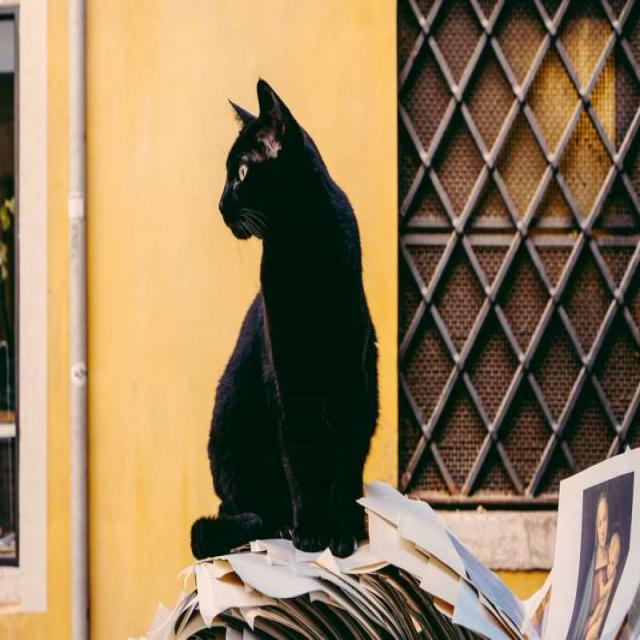black cat: (183, 68, 390, 571)
